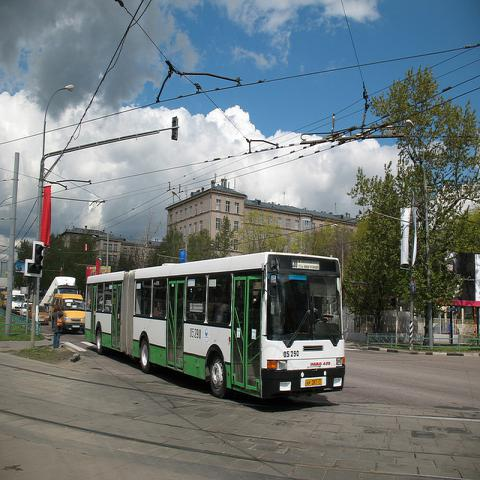bus: (85, 252, 346, 400)
car: (28, 304, 49, 325), (21, 302, 31, 317)
truck: (38, 276, 79, 312), (50, 293, 85, 335), (12, 289, 26, 314)
